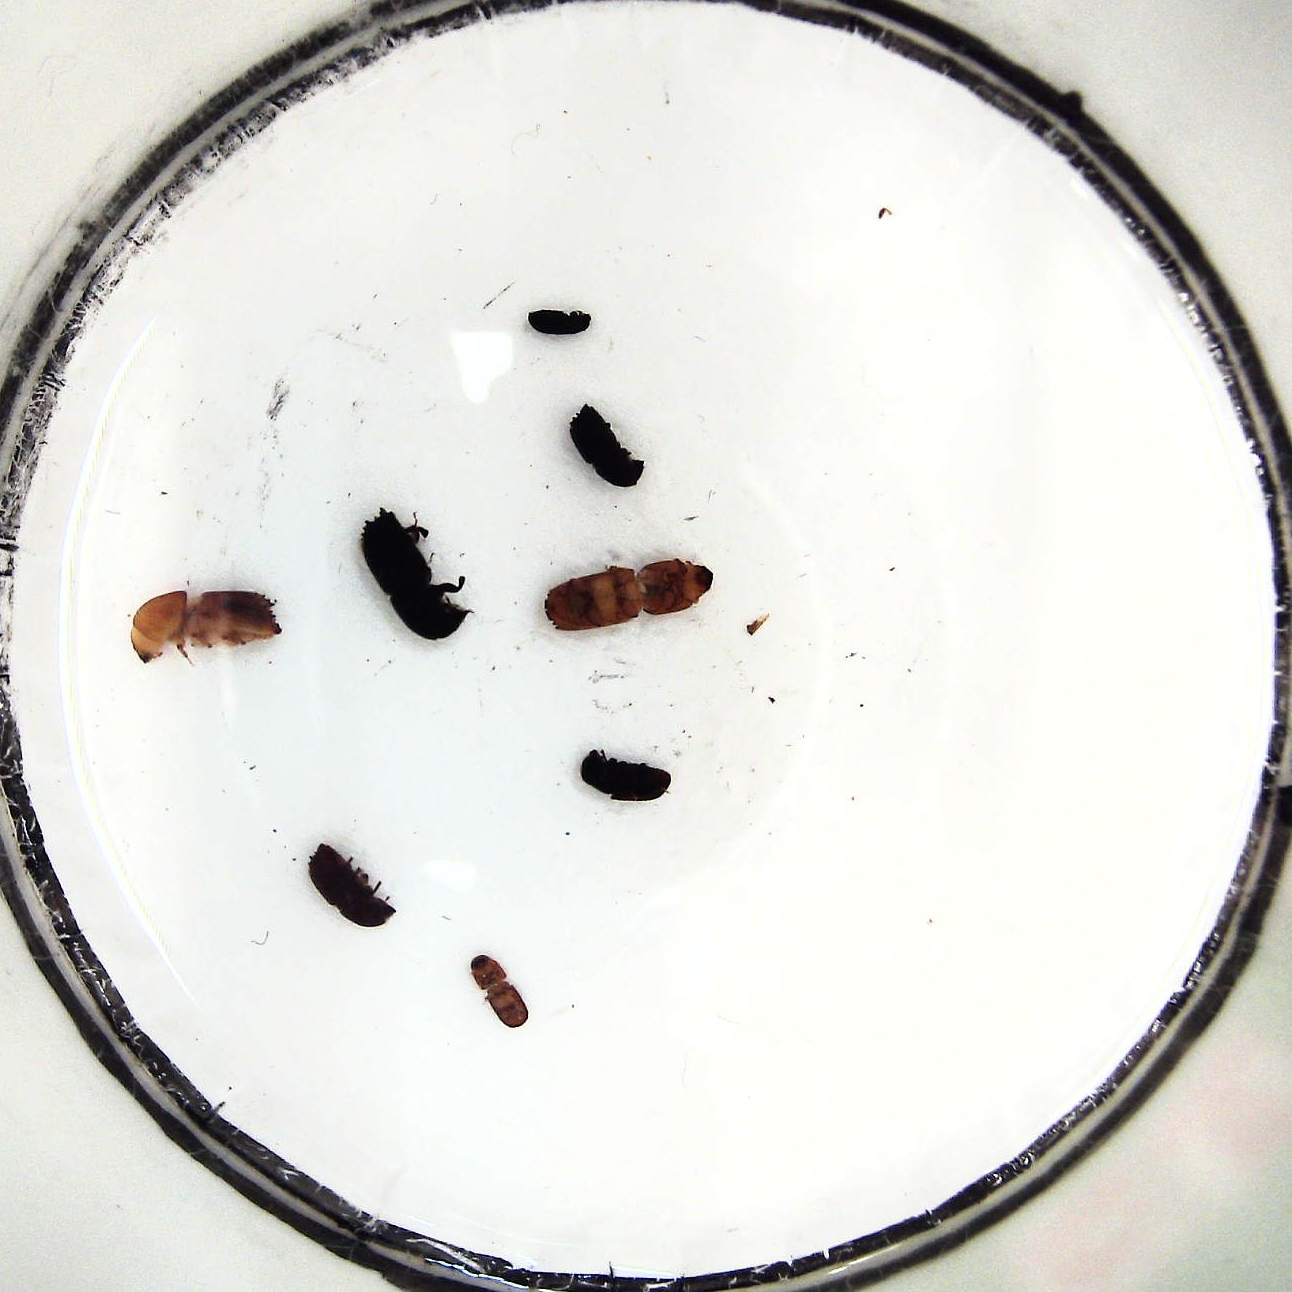Boerner: (358, 504, 473, 641), (124, 581, 286, 665), (541, 558, 715, 632)
Linnaeus: (305, 842, 398, 932), (568, 400, 645, 491)
acuminatus: (470, 956, 527, 1031)
armandi: (577, 747, 672, 805)
coleoptera: (525, 306, 593, 340)
